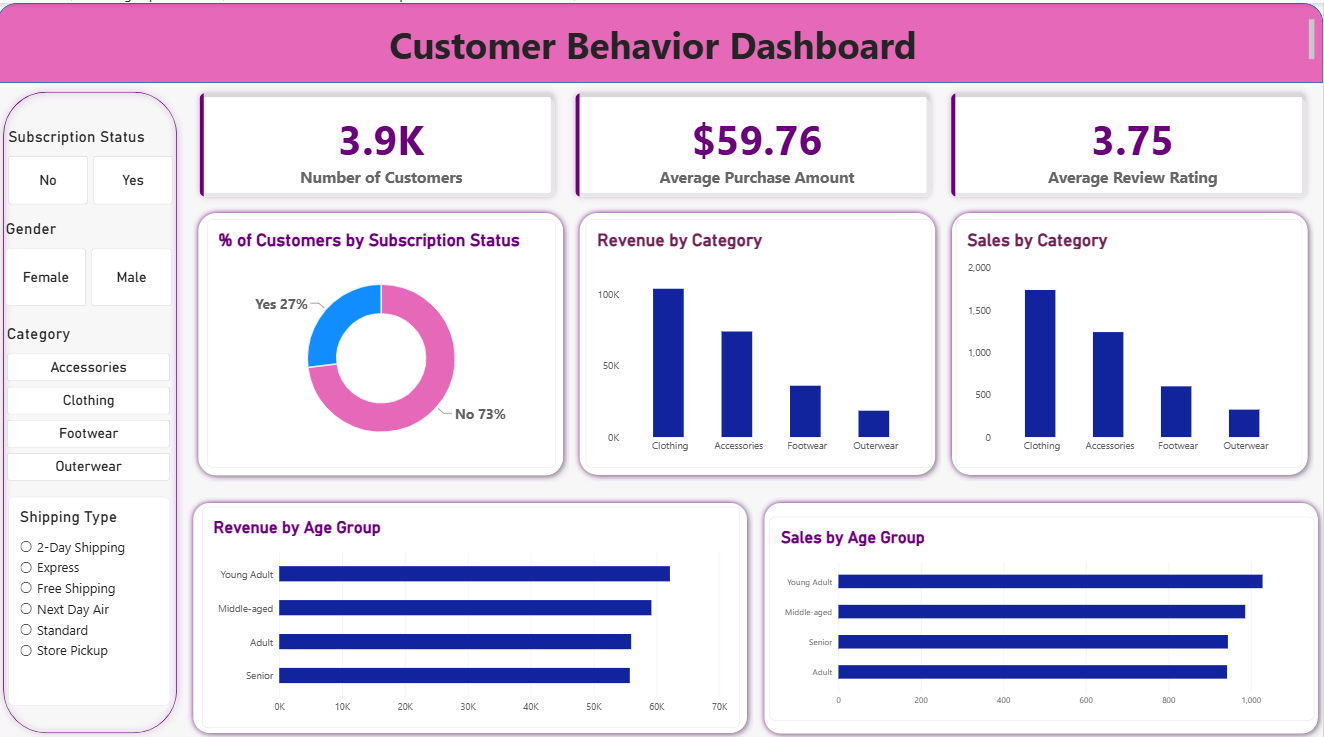

This screenshot's page, from the dashboard's own definition file:
{"tool":"powerbi","page":{"name":"Page 1","canvas":[1920,1080],"ordinal":0},"visuals":[{"type":"cardVisual","fields":{"Data":["customer_behavior customer.Number of Customers","customer_behavior customer.Average Purchase Amount","customer_behavior customer.Average Review Rating"]},"box":[282,119.4,1626.1,172.9],"z":0},{"type":"shape","box":[0,0,1920,115.7],"z":1000},{"type":"textbox","box":[0,24.3,1907.1,64.3],"z":2000},{"type":"shape","box":[282.3,295,546.5,398.1],"z":3000},{"type":"donutChart","title":"% of Customers by Subscription Status","fields":{"Category":["customer_behavior customer.subscription_status"],"Y":["CountNonNull(customer_behavior customer.customer_id)"]},"box":[304,313.1,504.9,360.1],"z":4000},{"type":"shape","box":[1373.5,295,533.1,397.3],"z":5000},{"type":"shape","box":[834.6,295,533.1,397.3],"z":6000},{"type":"clusteredColumnChart","title":"Revenue by Category","fields":{"Category":["customer_behavior customer.category"],"Y":["Sum(customer_behavior customer.purchase_amount)"]},"box":[852.4,313.1,501.3,360.1],"z":7000},{"type":"clusteredColumnChart","title":"Sales by Category","fields":{"Category":["customer_behavior customer.category"],"Y":["CountNonNull(customer_behavior customer.customer_id)"]},"box":[1388,313.1,501.3,360.1],"z":8000},{"type":"shape","box":[0,119.4,269.6,946.8],"z":9000},{"type":"advancedSlicerVisual","title":"Subscription Status","fields":{"Values":["customer_behavior customer.subscription_status"]},"box":[16.5,179.1,238.8,113.2],"z":9001},{"type":"advancedSlicerVisual","title":"Gender","fields":{"Values":["customer_behavior customer.gender"]},"box":[12.3,312.9,240.8,125.6],"z":9002},{"type":"advancedSlicerVisual","title":"Category","fields":{"Values":["customer_behavior customer.category"]},"box":[14.4,465.2,236.7,226.4],"z":9003},{"type":"listSlicer","title":"Shipping Type","fields":{"Values":["customer_behavior customer.shipping_type"]},"box":[16.5,714.2,234.6,302.6],"z":9004},{"type":"shape","box":[1101.2,714.2,819.2,352],"z":9007},{"type":"clusteredBarChart","title":"Sales by Age Group","fields":{"Category":["customer_behavior customer.age_group"],"Y":["CountNonNull(customer_behavior customer.customer_id)"]},"box":[1118.4,743.8,789,295],"z":9008},{"type":"shape","box":[275.1,714.8,819.8,351.1],"z":9009},{"type":"clusteredBarChart","title":"Revenue by Age Group","fields":{"Category":["customer_behavior customer.age_group"],"Y":["Sum(customer_behavior customer.purchase_amount)"]},"box":[296.8,729.3,778.2,320.3],"z":9010}]}

Visuals, with their boxes in screenshot pixels (x1, y1, x2, y2), scaled from the page's 1920x1080 canvas onto the 1324x737 screenshot:
cardVisual - customer_behavior customer.Number of Customers x customer_behavior customer.Average Purchase Amount: locate(194, 81, 1316, 199)
shape: locate(0, 0, 1323, 79)
textbox: locate(0, 17, 1315, 60)
shape: locate(195, 201, 572, 473)
"% of Customers by Subscription Status" donutChart: locate(210, 214, 558, 459)
shape: locate(947, 201, 1315, 472)
shape: locate(576, 201, 943, 472)
"Revenue by Category" clusteredColumnChart: locate(588, 214, 933, 459)
"Sales by Category" clusteredColumnChart: locate(957, 214, 1303, 459)
shape: locate(0, 81, 186, 728)
"Subscription Status" advancedSlicerVisual: locate(11, 122, 176, 199)
"Gender" advancedSlicerVisual: locate(8, 214, 175, 299)
"Category" advancedSlicerVisual: locate(10, 317, 173, 472)
"Shipping Type" listSlicer: locate(11, 487, 173, 694)
shape: locate(759, 487, 1323, 728)
"Sales by Age Group" clusteredBarChart: locate(771, 508, 1315, 709)
shape: locate(190, 488, 755, 727)
"Revenue by Age Group" clusteredBarChart: locate(205, 498, 741, 716)
